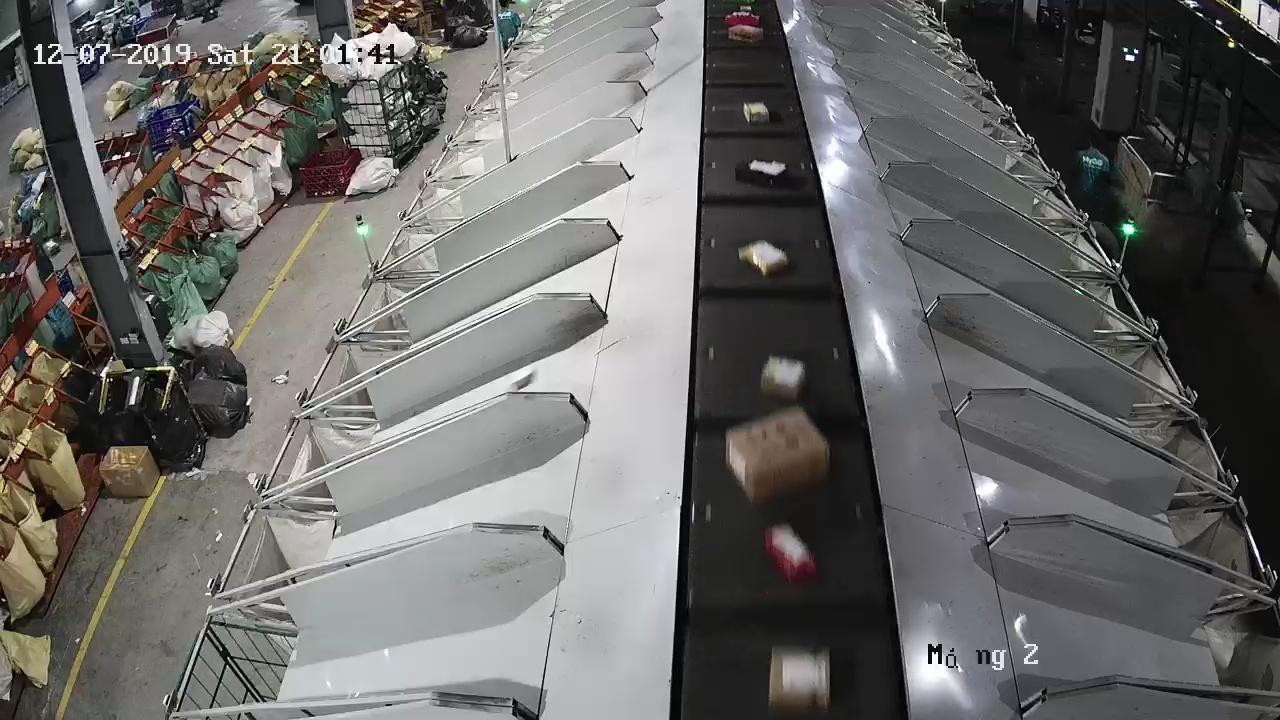parcel: (506, 366, 534, 390)
